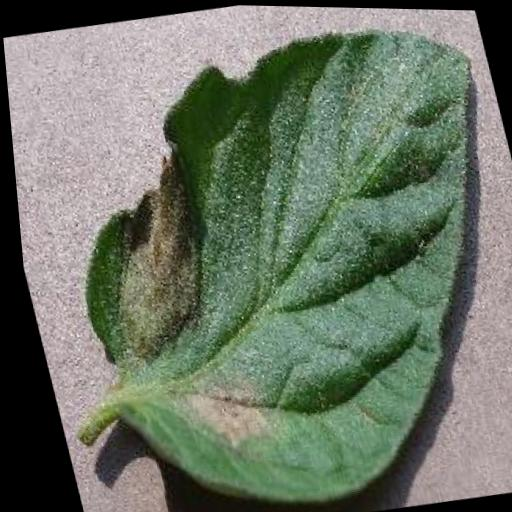Late Blight: (18, 6, 512, 512)
